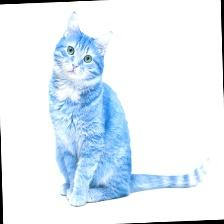kedo: (52, 10, 205, 206)
